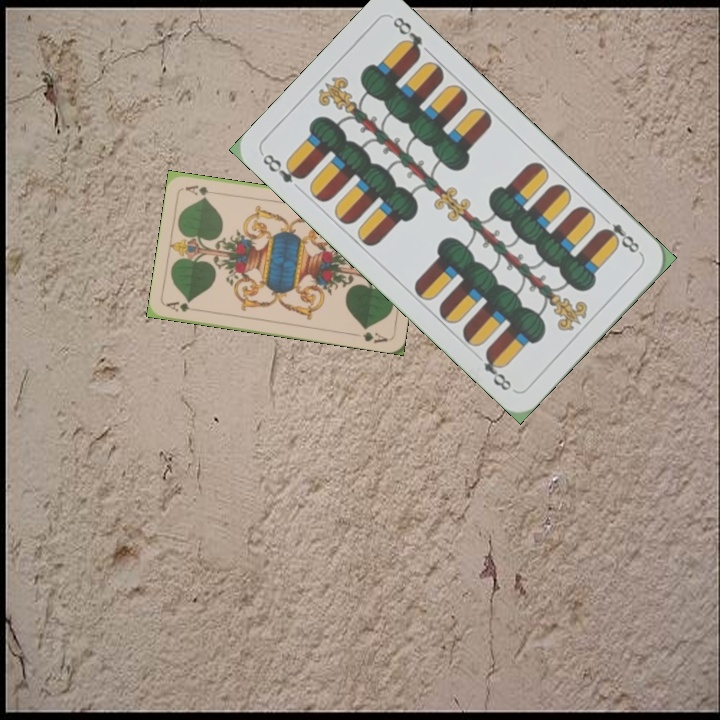E8: (597, 212, 645, 258), (258, 150, 308, 186)
GA: (163, 297, 203, 315)
